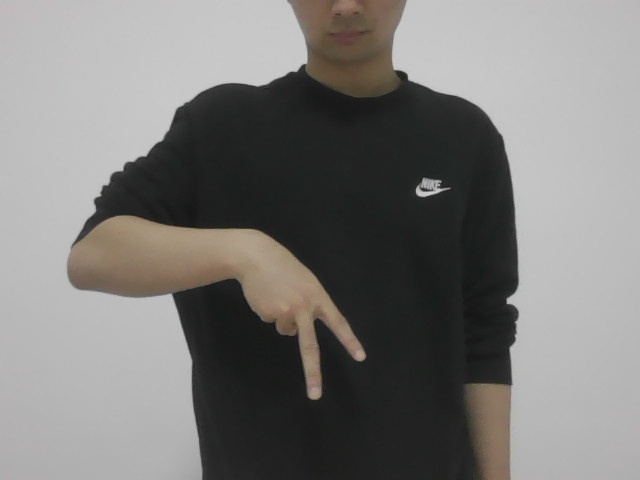walk: (212, 203, 373, 402)
